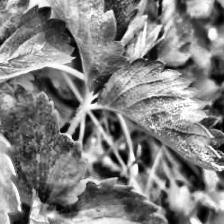Powdery Mildew Leaf: (89, 57, 224, 172)
